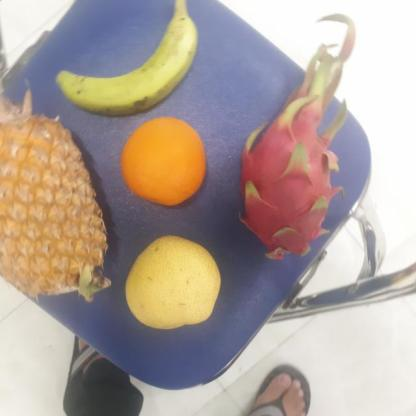banana: (55, 0, 195, 114)
guava: (118, 117, 208, 203)
pear: (122, 234, 224, 328)
pitaya: (236, 86, 342, 262)
